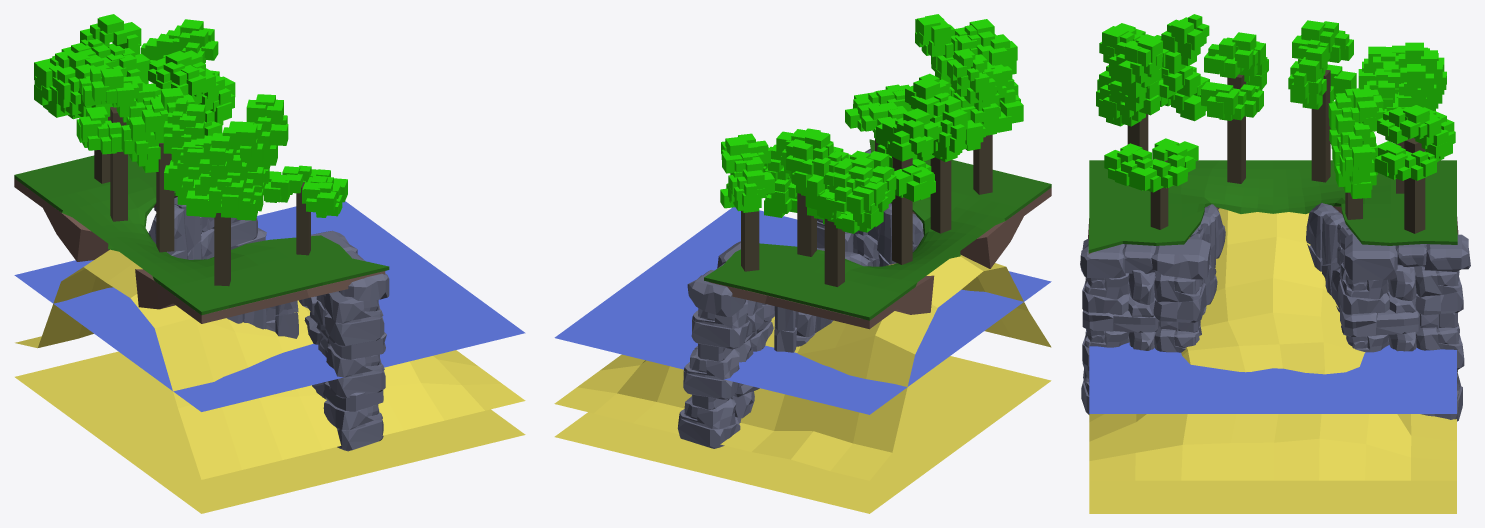
File: 37__tile.fbx
3 views of the same model, side by side, from view 1: azimuth 30°, elevation 25°; view 2: azimuth 150°, elevation 25°; view 3: azimuth 270°, elevation 25° (orthographic). The views are drawn at different scales.
Visible parts, largest first — view 1: 37__tile; view 2: 37__tile; view 3: 37__tile.
Boxes of the visible parts, left/top/right/bottom form: 37__tile: left=14, top=14, right=525, bottom=513; 37__tile: left=554, top=14, right=1051, bottom=513; 37__tile: left=1080, top=14, right=1470, bottom=513.
Bounding box in the file's own units: 200 × 218 × 213.
